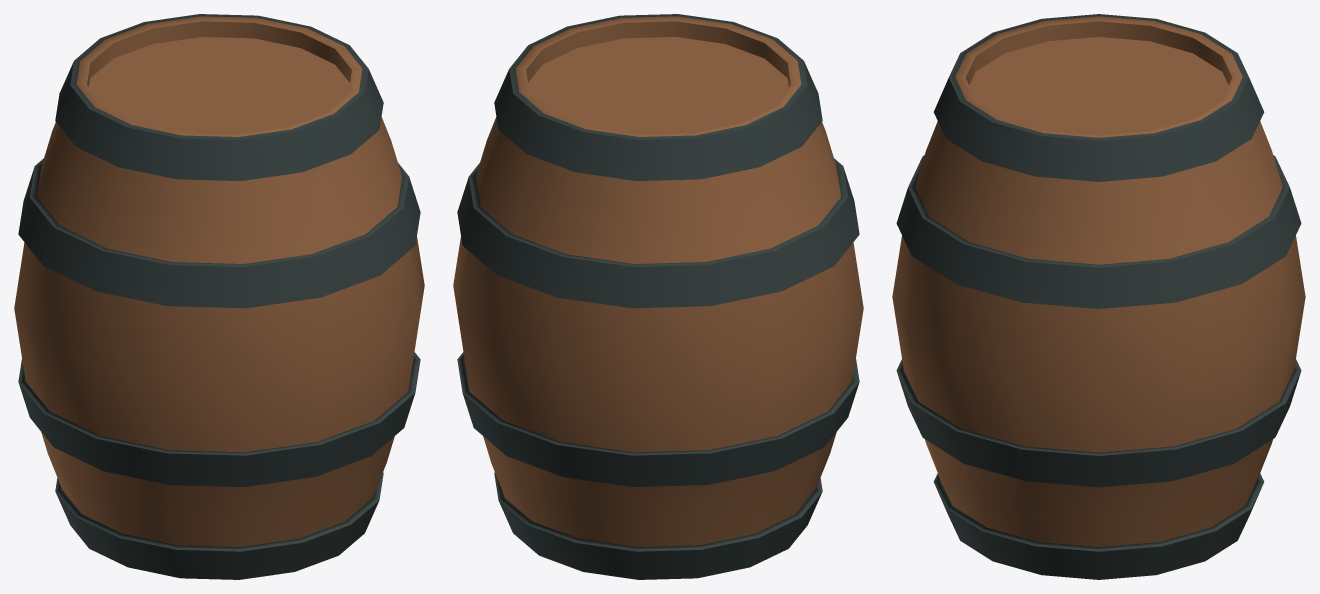
Rendered from Barrel.fbx.
3 views of the same model, side by side, from view 1: azimuth 30°, elevation 25°; view 2: azimuth 150°, elevation 25°; view 3: azimuth 270°, elevation 25° (orthographic).
Parts seen in each view (by area): view 1: madeira; view 2: madeira; view 3: madeira.
Part boxes in pixels (x1,y1,x2,y2): madeira: [14, 14, 424, 579]; madeira: [453, 14, 863, 579]; madeira: [892, 14, 1305, 579].
Size of the model in its own units: 1.69 by 1.98 by 1.69.
